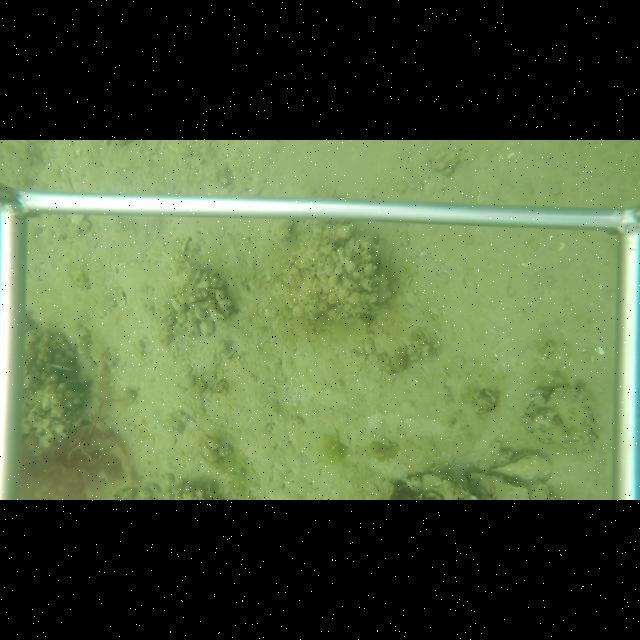Oyster-Closed: (519, 385, 601, 457), (400, 469, 481, 500), (489, 451, 553, 484), (466, 470, 532, 500)
